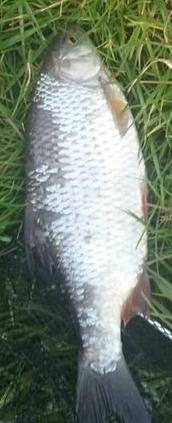Rutilus rutilus: (20, 20, 152, 423)
